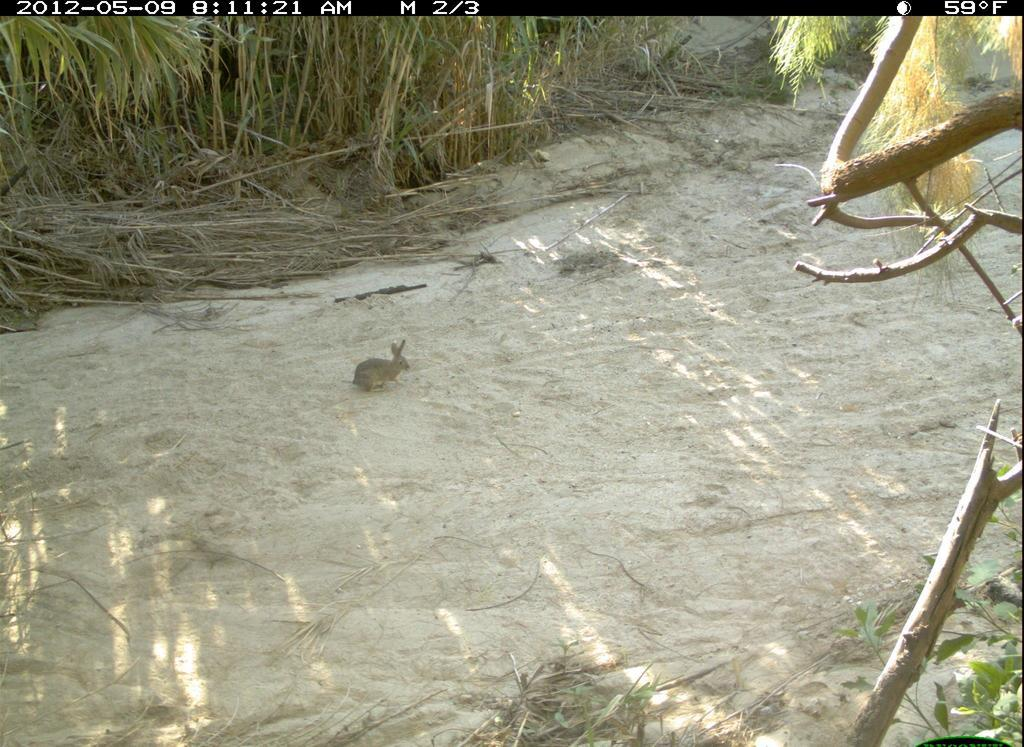rabbit: (347, 337, 415, 396)
